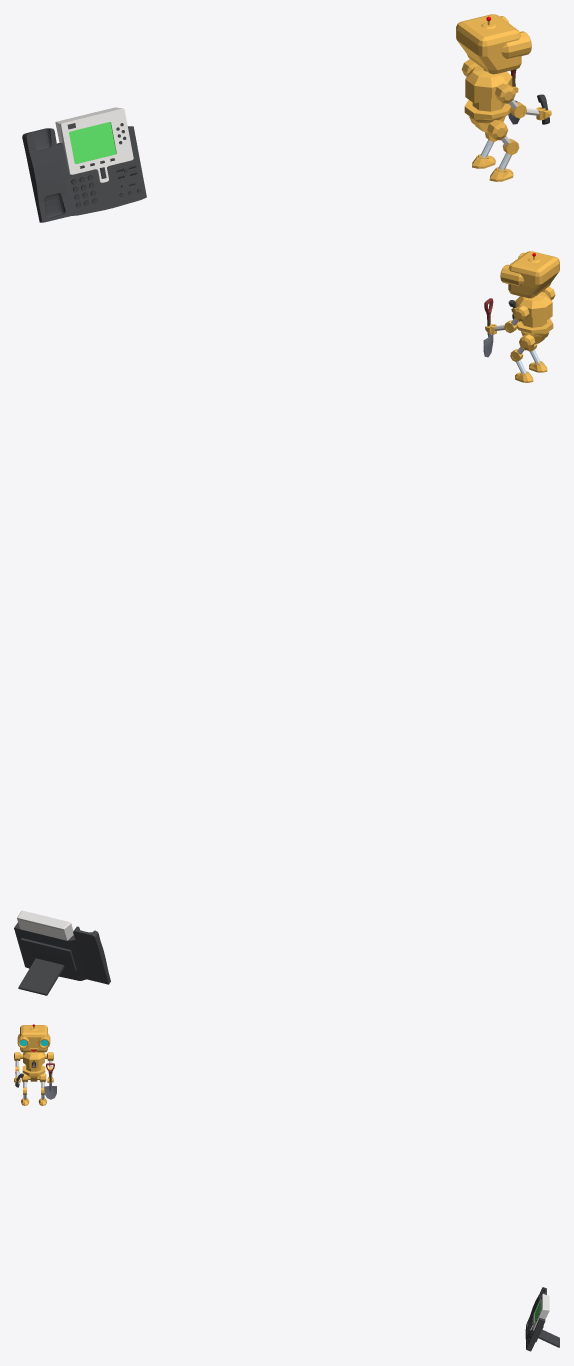
File: ditchColored2.glb
3 renders of one model, top to bottom at view 1: azimuth 30°, elevation 25°; view 2: azimuth 150°, elevation 25°; view 3: azimuth 270°, elevation 25°, orthographic. The views are drawn at different scales.
Visible parts, largest first — view 1: Phone Body, Robot; view 2: Phone Body, Robot; view 3: Robot, Phone Body.
Boxes of the visible parts, x1,y1,x2,y2 form: Phone Body: [22, 107, 146, 222]; Robot: [456, 14, 551, 181]; Phone Body: [14, 910, 110, 995]; Robot: [485, 251, 559, 382]; Robot: [14, 1024, 53, 1105]; Phone Body: [525, 1287, 559, 1351].
Bounding box in the file's own units: 5.36 × 17.35 × 29.46.
9 materials, 2 textured.
